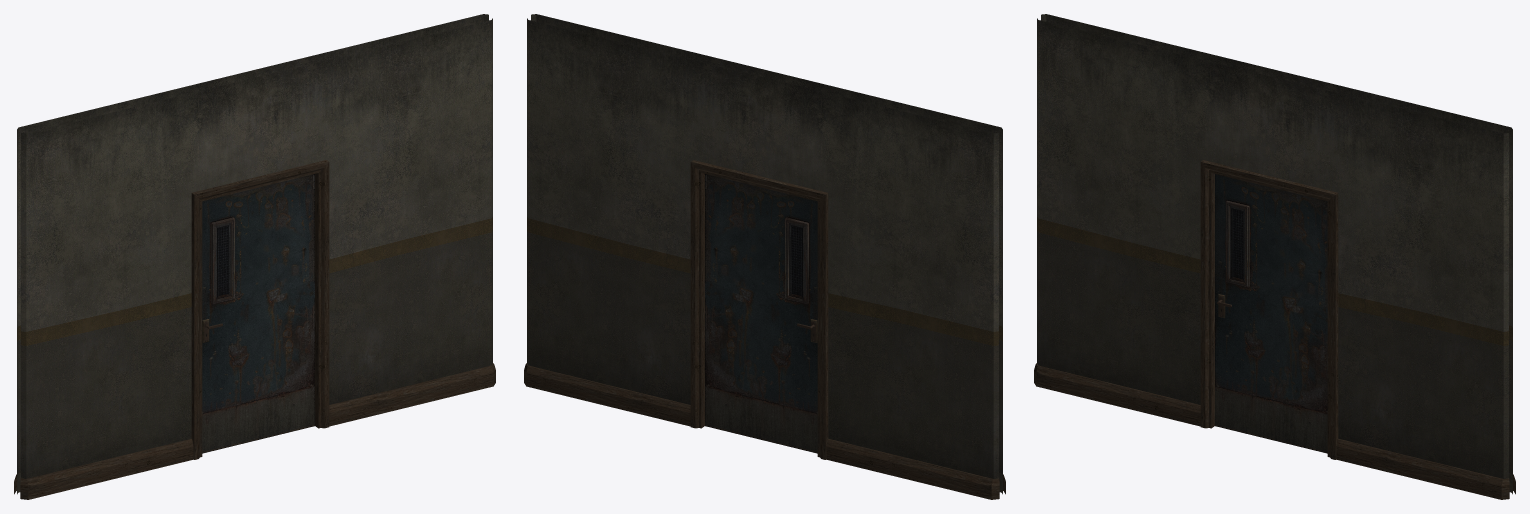
The model's file is doorway_1_1.obj.
The picture shows the model from 3 angles, left to right: view 1: azimuth 30°, elevation 25°; view 2: azimuth 150°, elevation 25°; view 3: azimuth 330°, elevation 25°; orthographic projection.
Visible parts, largest first — view 1: doorway_1_1, door_3; view 2: doorway_1_1, door_3; view 3: doorway_1_1, door_3.
Boxes of the visible parts, x1,y1,x2,y2 form: doorway_1_1: (14,14,495,499); door_3: (202,174,314,453); doorway_1_1: (524,14,1005,499); door_3: (705,174,817,453); doorway_1_1: (1034,14,1515,499); door_3: (1215,174,1327,453).
Bounding box in the file's own units: 4.09 × 3 × 0.2.
